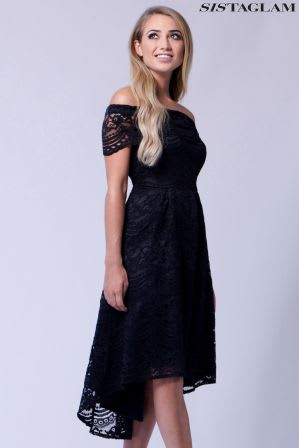S_dress: (73, 105, 221, 399)
